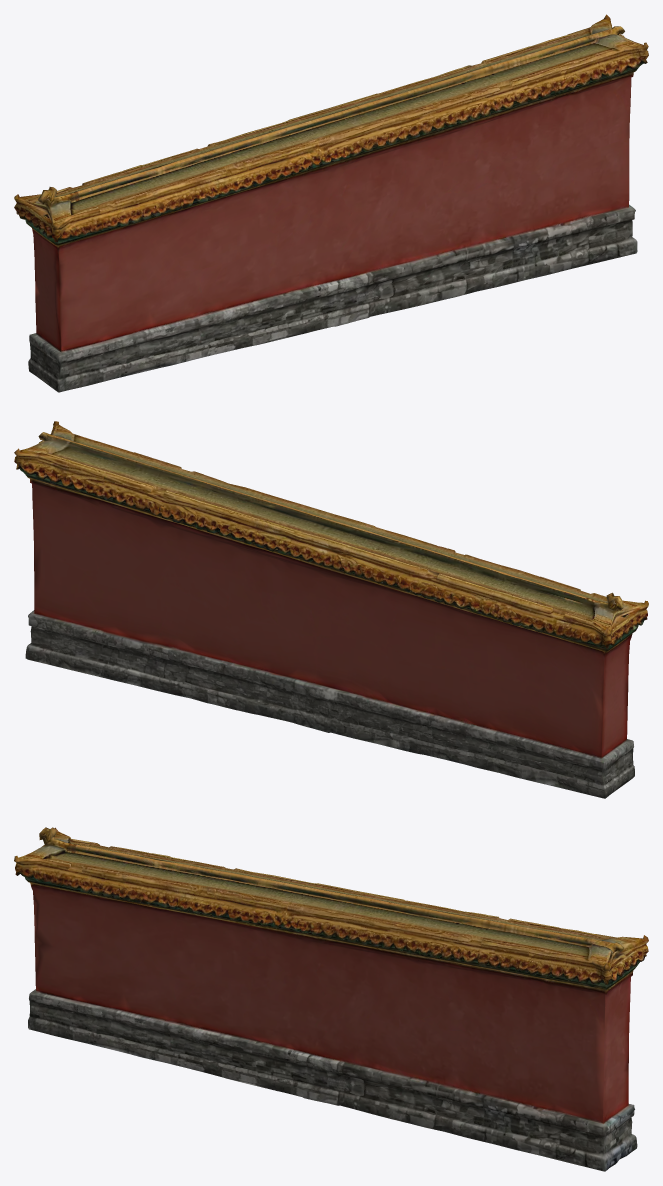
Rendered from court-wall.glb.
The picture shows the model from 3 angles, top to bottom: view 1: azimuth 30°, elevation 25°; view 2: azimuth 150°, elevation 25°; view 3: azimuth 330°, elevation 25°; orthographic projection.
Visible parts, largest first — view 1: tripo_node_f5a7fc31-7efa-406e-a239-6fcdcd087843; view 2: tripo_node_f5a7fc31-7efa-406e-a239-6fcdcd087843; view 3: tripo_node_f5a7fc31-7efa-406e-a239-6fcdcd087843.
Boxes of the visible parts, x1,y1,x2,y2 form: tripo_node_f5a7fc31-7efa-406e-a239-6fcdcd087843: (14, 14, 648, 392); tripo_node_f5a7fc31-7efa-406e-a239-6fcdcd087843: (14, 421, 648, 798); tripo_node_f5a7fc31-7efa-406e-a239-6fcdcd087843: (14, 827, 648, 1171).
Size of the model in its own units: 1 by 0.346 by 0.1239.
1 material, 1 textured.
